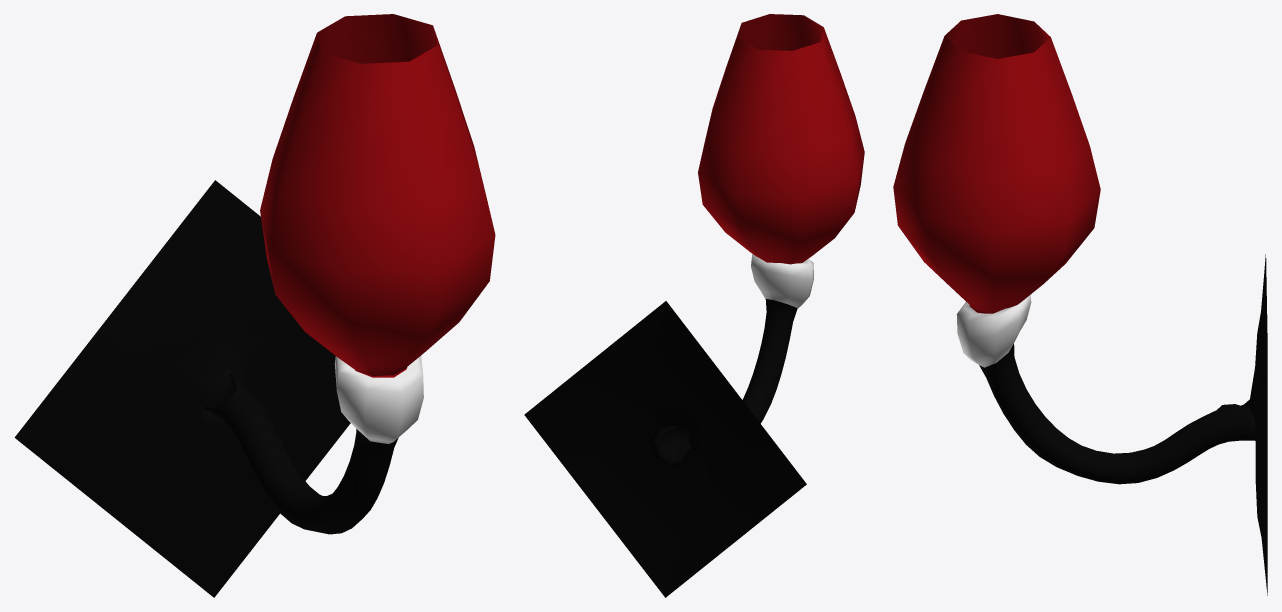
Rendered from CurvedLightFixture.glb.
3 renders of one model, left to right at view 1: azimuth 30°, elevation 25°; view 2: azimuth 150°, elevation 25°; view 3: azimuth 270°, elevation 25°, orthographic. The views are drawn at different scales.
Visible parts, largest first — view 1: CurvedLightFixture; view 2: CurvedLightFixture; view 3: CurvedLightFixture.
Boxes of the visible parts, left/top/right/bottom form: CurvedLightFixture: left=14, top=14, right=495, bottom=597; CurvedLightFixture: left=524, top=14, right=864, bottom=597; CurvedLightFixture: left=893, top=14, right=1267, bottom=595.
Size of the model in its own units: 0.9335 by 1.52 by 0.9146.
